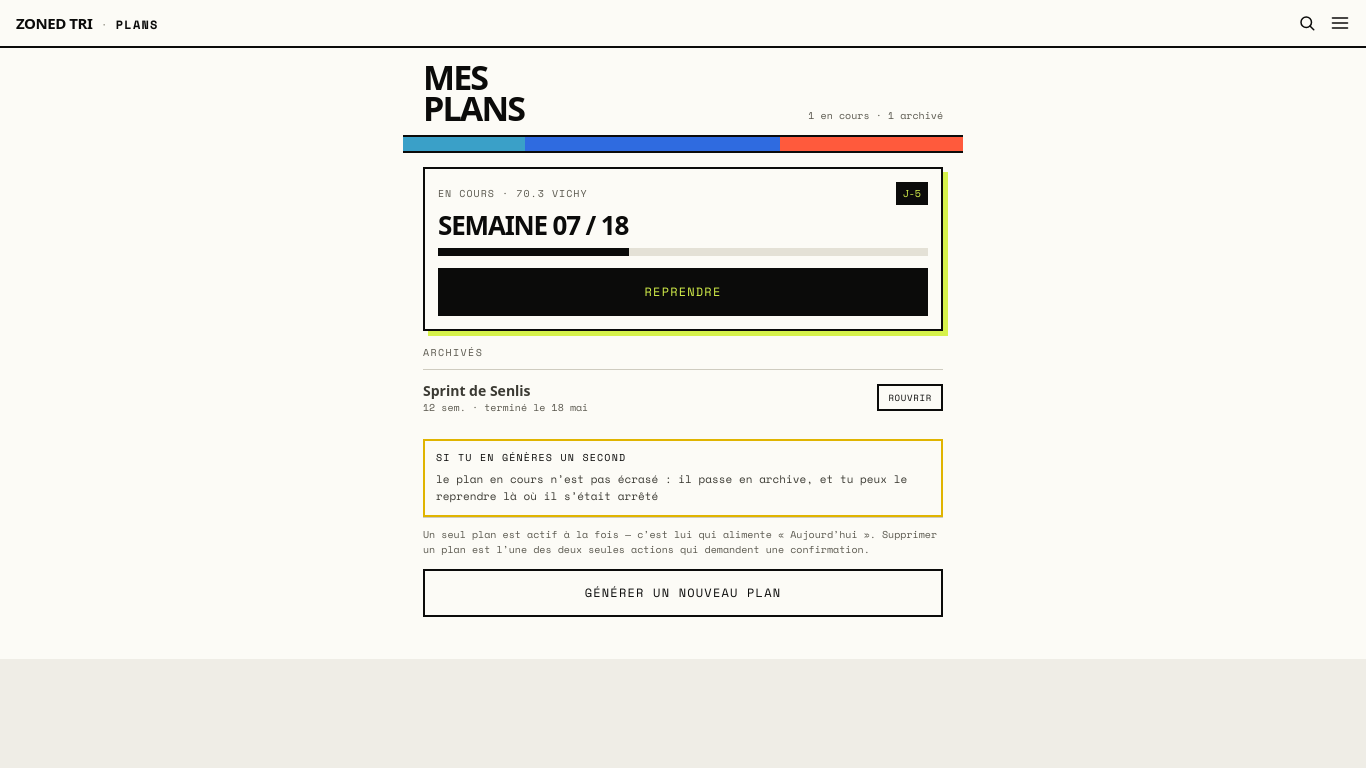
Scenario: PlansRoute · rouvrir un plan archivé › montre l’effet avant d’écrire, et n’écrit rien tant qu’on n’a pas confirmé
The width and height of the screenshot is (1366, 768).
Click the button "Rouvrir". click: click(910, 398)
box: x1=877 y1=384 x2=943 y2=411
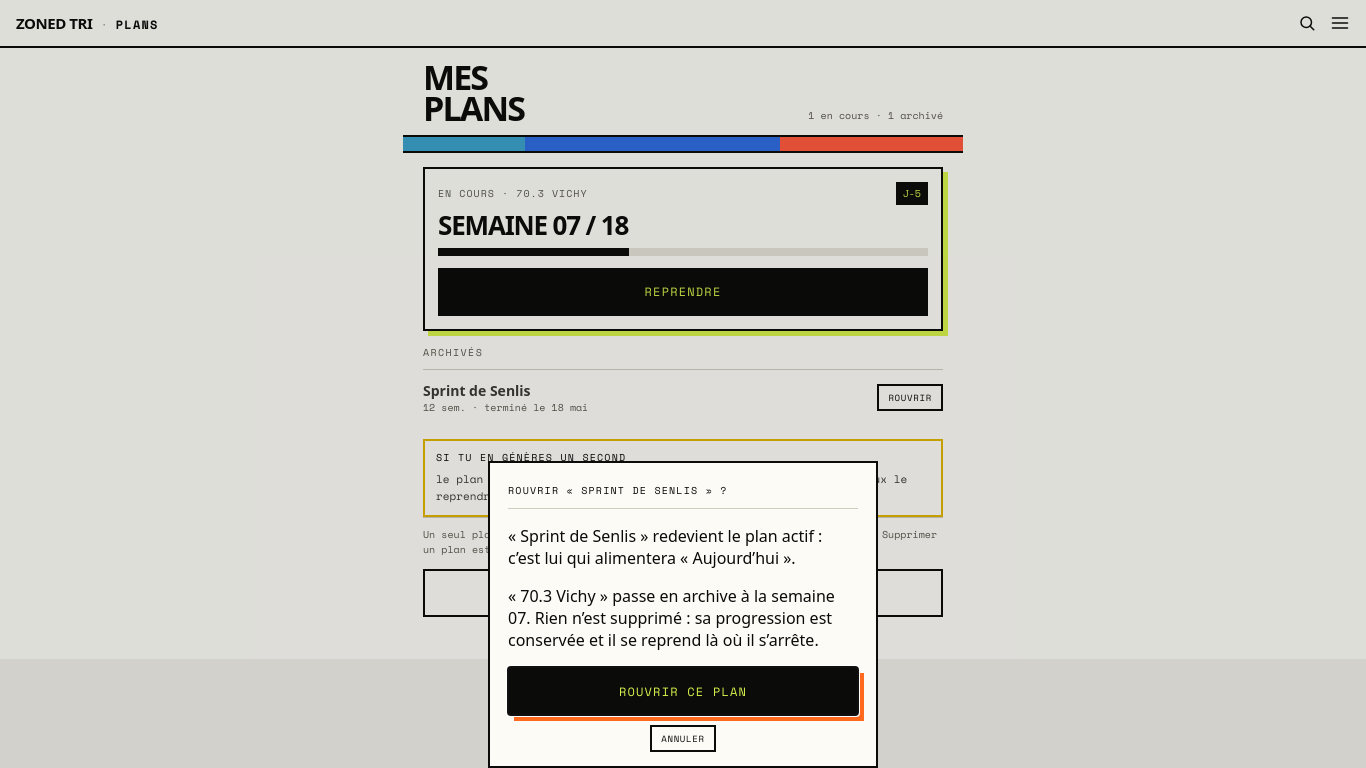
Check: the text "redevient le plan actif" is shown, box x1=508 y1=525 x2=822 y2=569
Check: the text "passe en archive à la semaine" is shown, box x1=596 y1=585 x2=835 y2=607
Click the button "Annuler". click: click(683, 738)
box: x1=650 y1=725 x2=716 y2=752
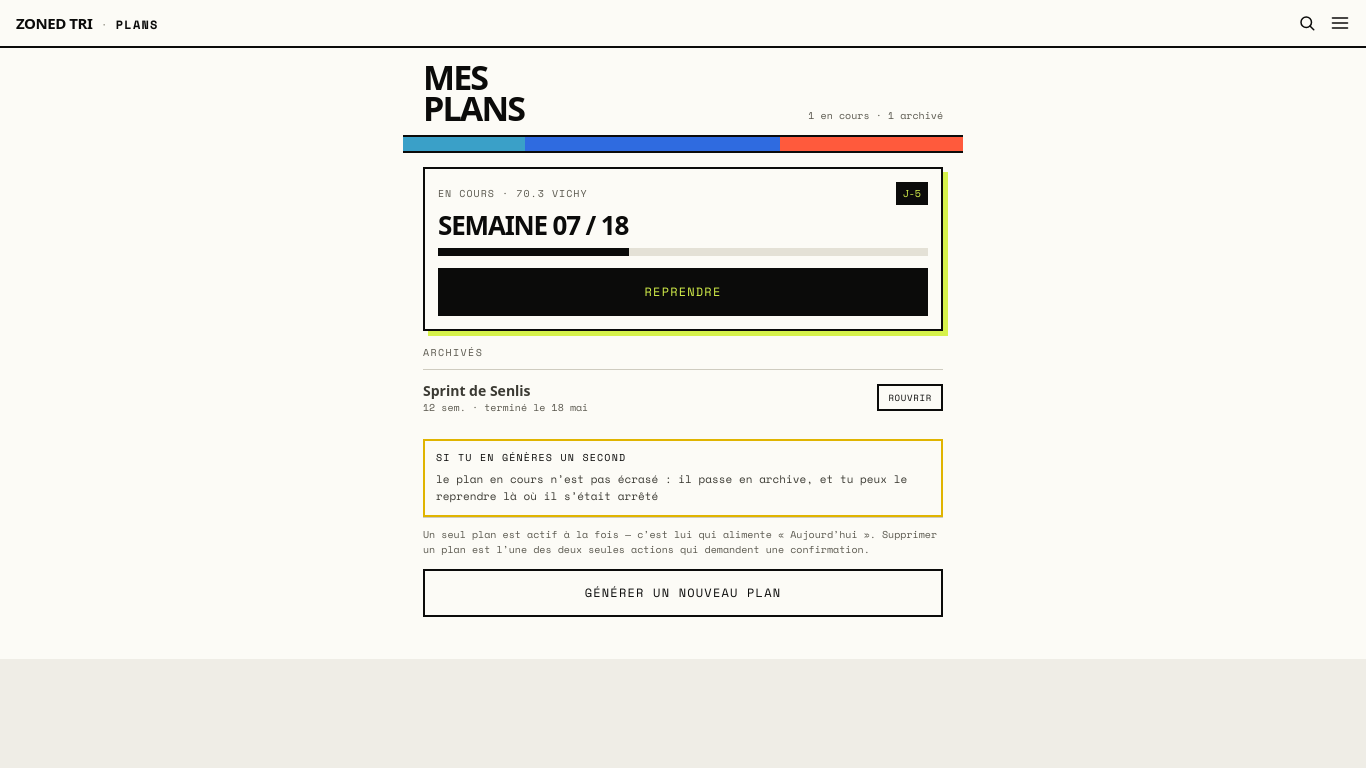
Check: the dialog is gone
